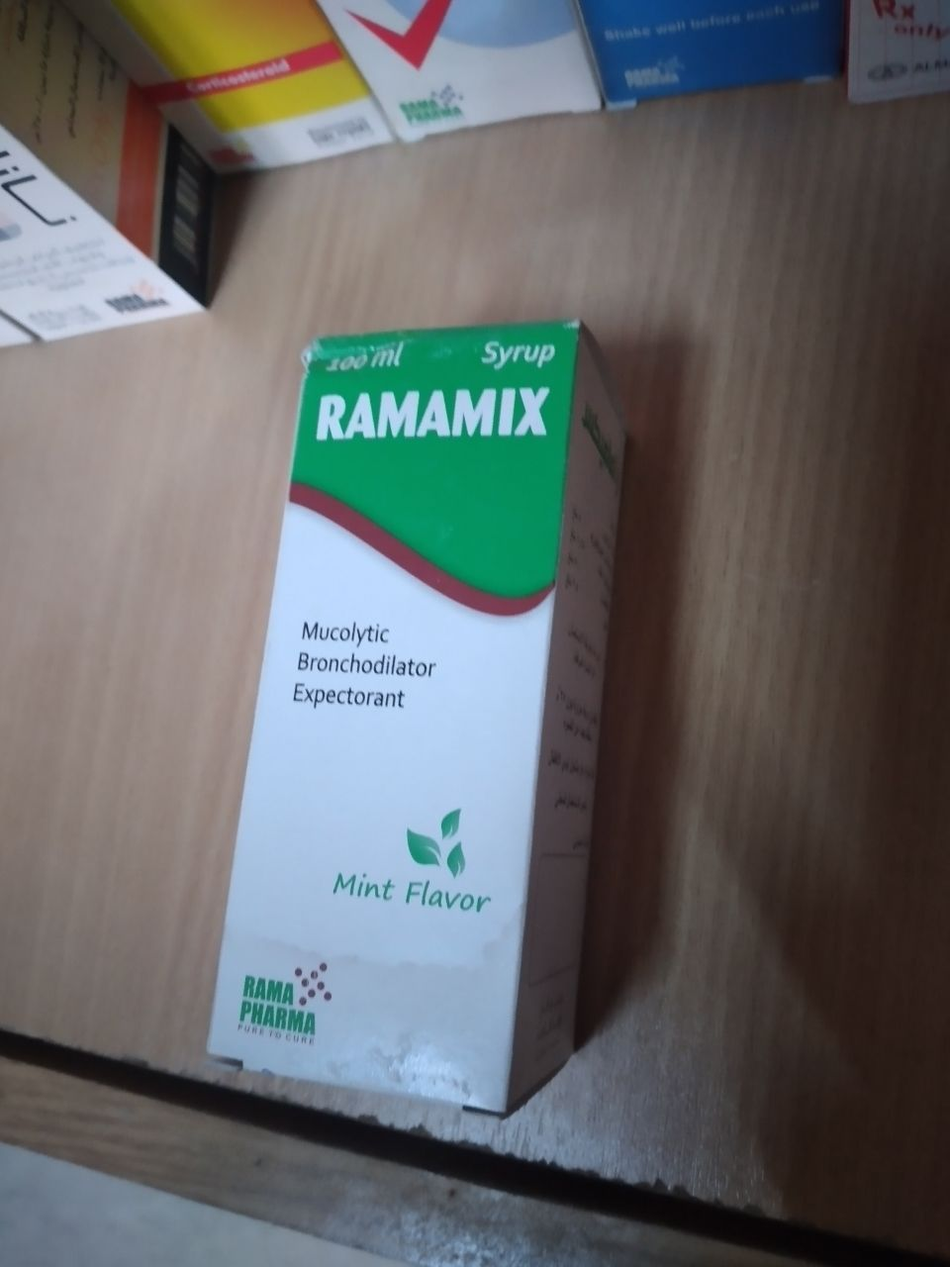Medicine: (195, 310, 647, 1115)
